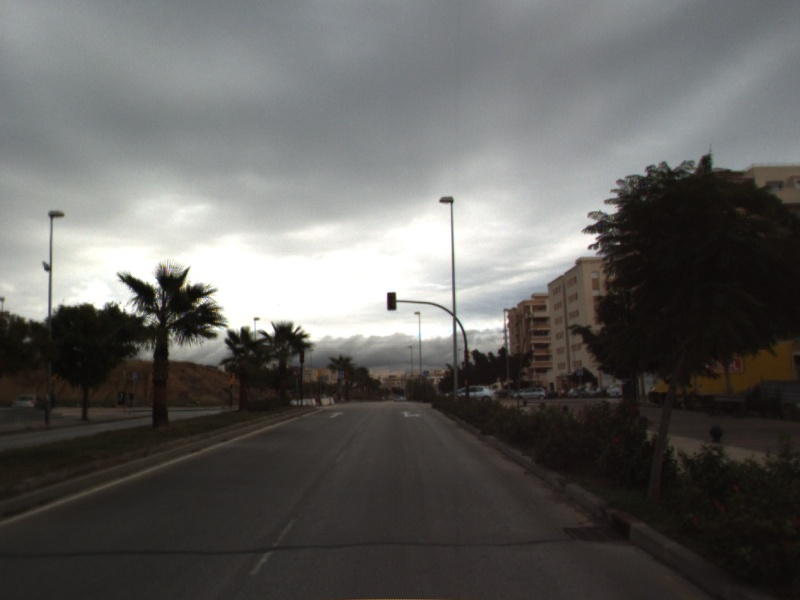STRAIGHT: (327, 409, 346, 420)
STRAIGHT_RIGHT: (398, 408, 424, 419)
